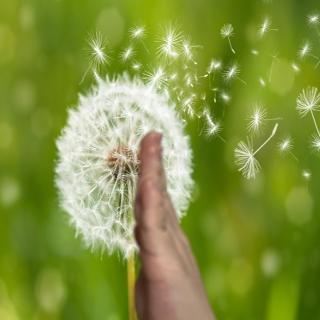RIGHT: (131, 129, 228, 320)
